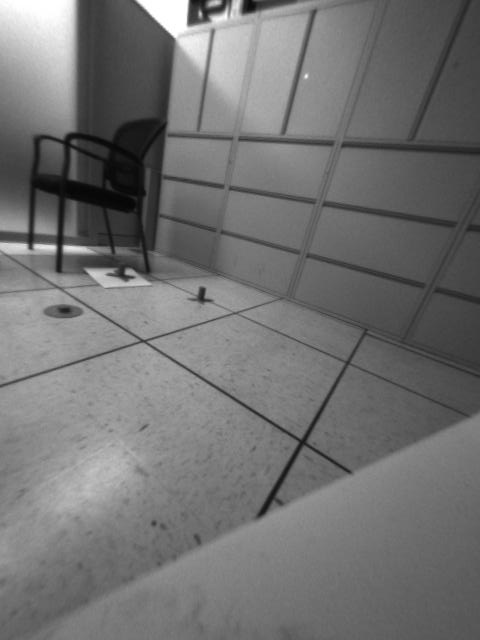X: (105, 261, 138, 284), (186, 286, 212, 304)
